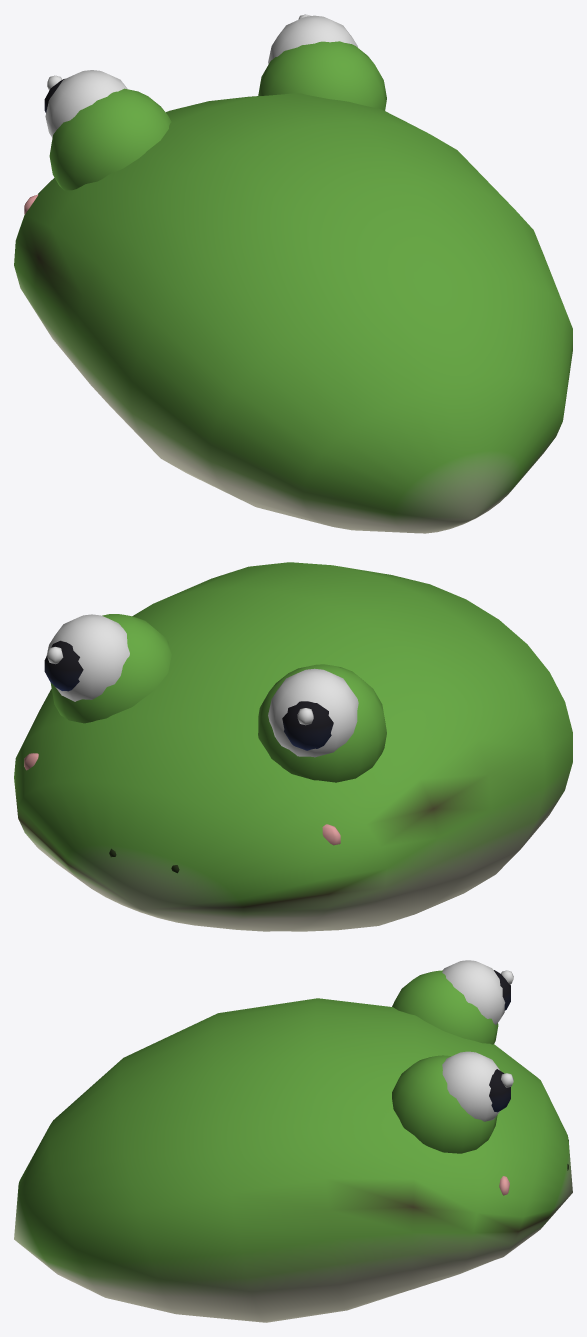
File: Frog.fbx
3 views of the same model, one above another, from view 1: azimuth 30°, elevation 25°; view 2: azimuth 150°, elevation 25°; view 3: azimuth 270°, elevation 25° (orthographic). The views are drawn at different scales.
Visible parts, largest first — view 1: Frog; view 2: Frog; view 3: Frog.
Boxes of the visible parts, x1,y1,x2,y2 form: Frog: (14, 14, 572, 533); Frog: (14, 562, 572, 931); Frog: (14, 960, 572, 1322).
Size of the model in its own units: 0.8 by 0.6311 by 1.11.
